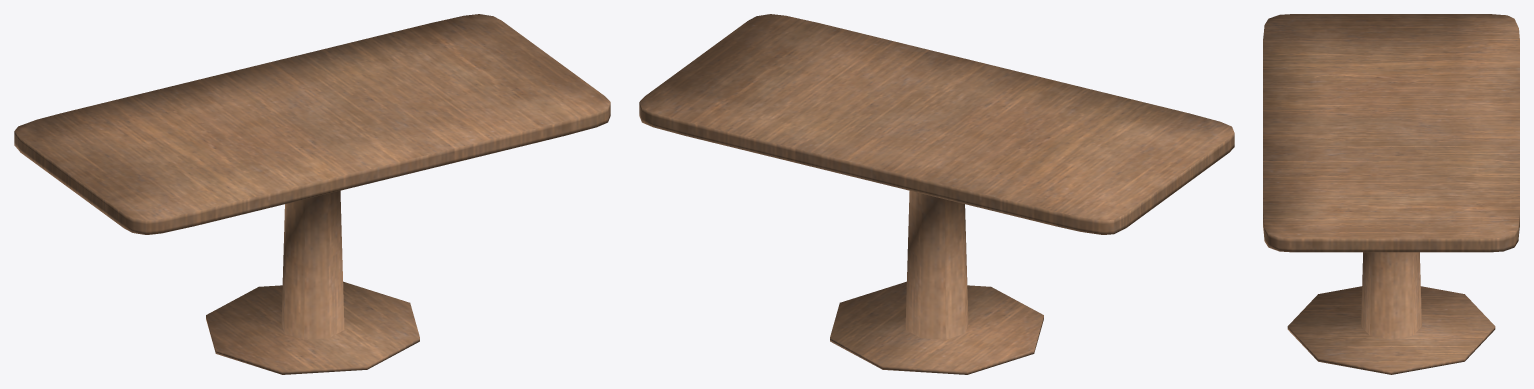
File: table2.obj
The picture shows the model from 3 angles, left to right: view 1: azimuth 30°, elevation 25°; view 2: azimuth 150°, elevation 25°; view 3: azimuth 270°, elevation 25°; orthographic projection. The views are drawn at different scales.
Parts seen in each view (by area): view 1: Cube.006; view 2: Cube.006; view 3: Cube.006.
Part boxes in pixels (left/top/right/bottom): Cube.006: left=14, top=14, right=610, bottom=374; Cube.006: left=639, top=14, right=1234, bottom=374; Cube.006: left=1263, top=14, right=1519, bottom=374.
Size of the model in its own units: 2.34 by 0.9888 by 1.13.
Materials: 1 (1 with a texture image).
